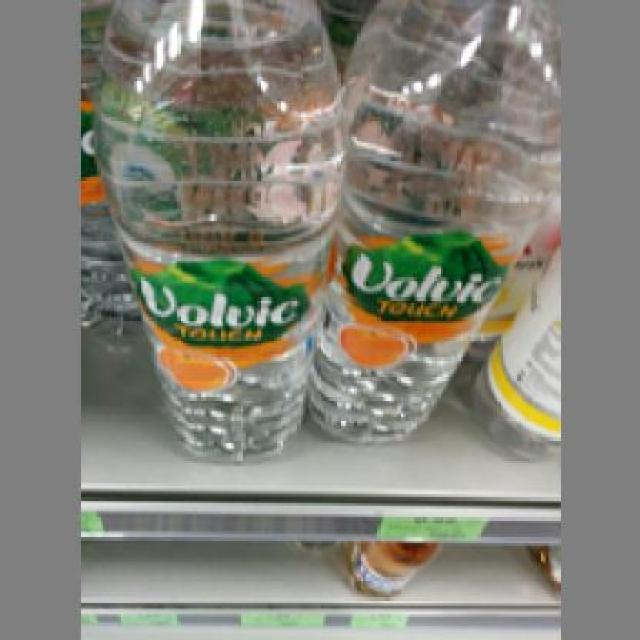Water: (88, 0, 346, 463), (312, 0, 554, 437)
